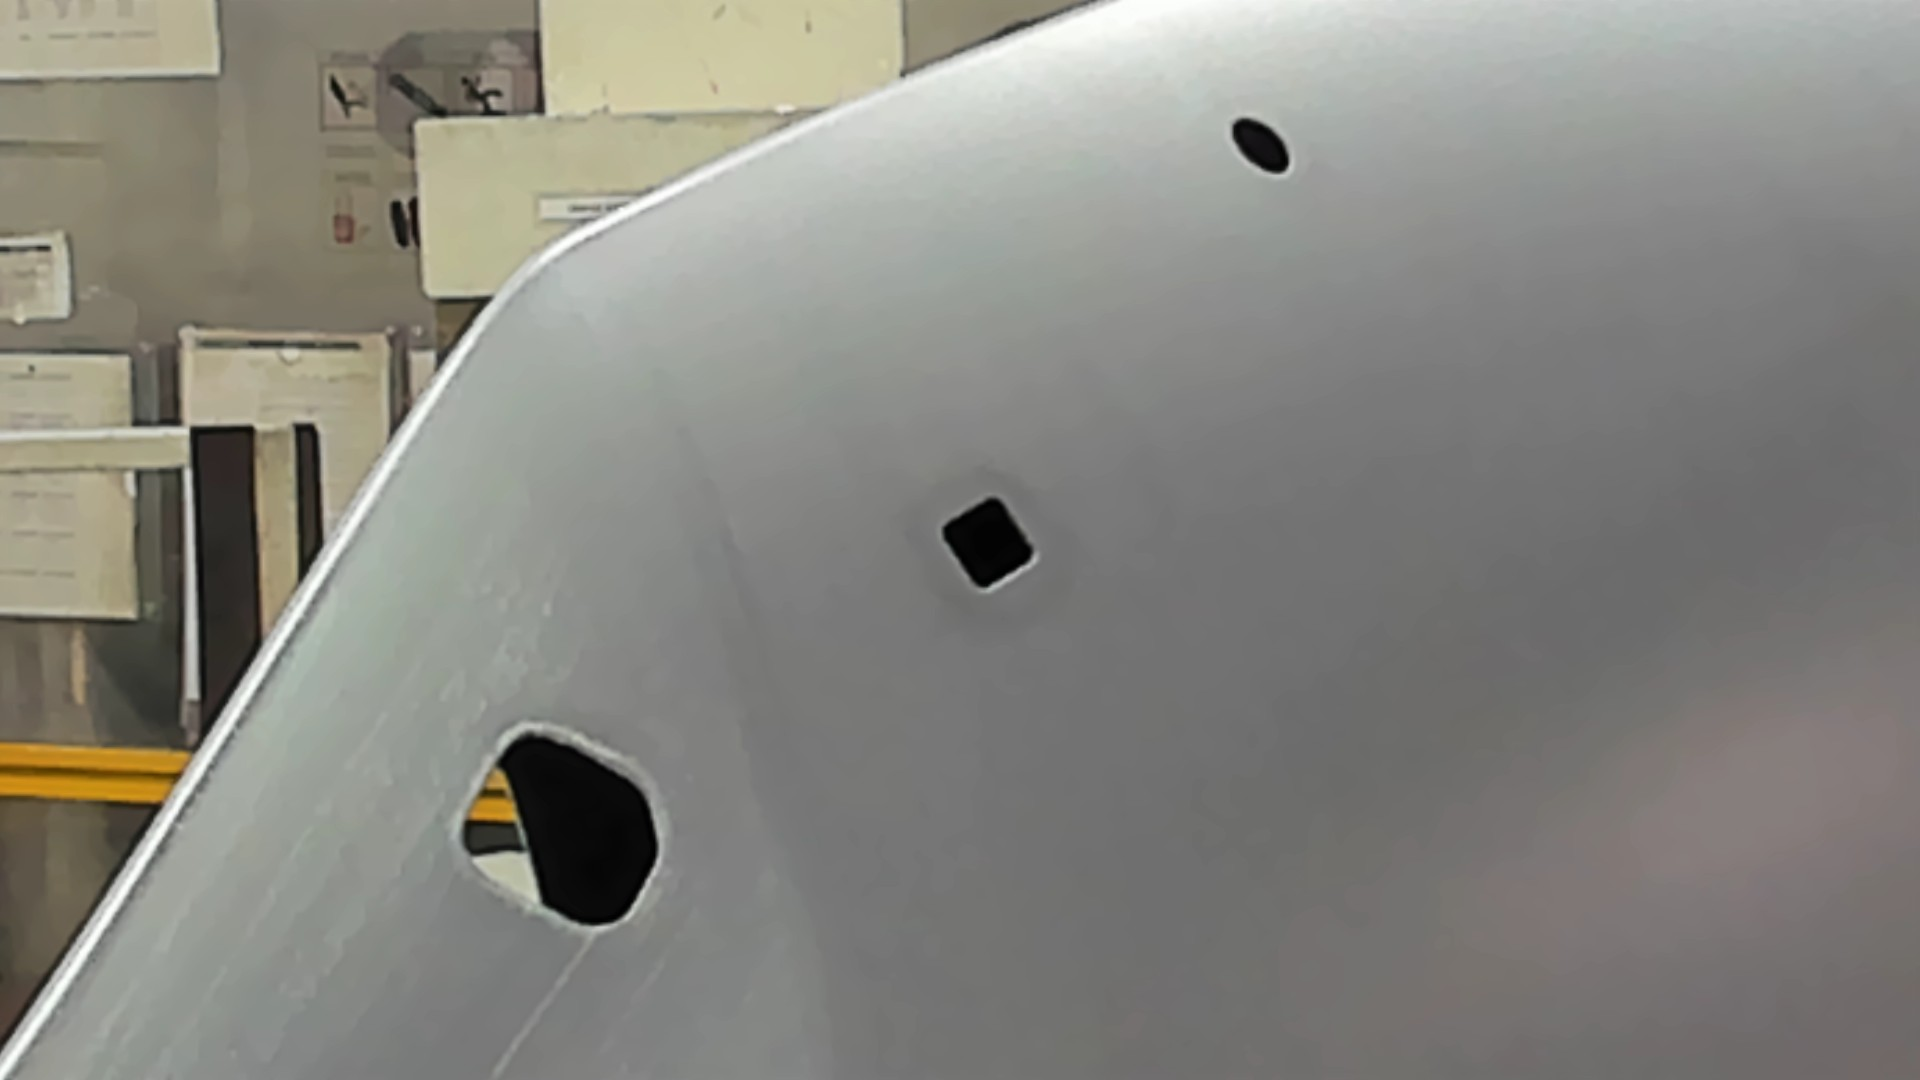chico: (1224, 109, 1298, 182)
grande: (436, 713, 674, 942)
mediano: (928, 491, 1042, 600)
